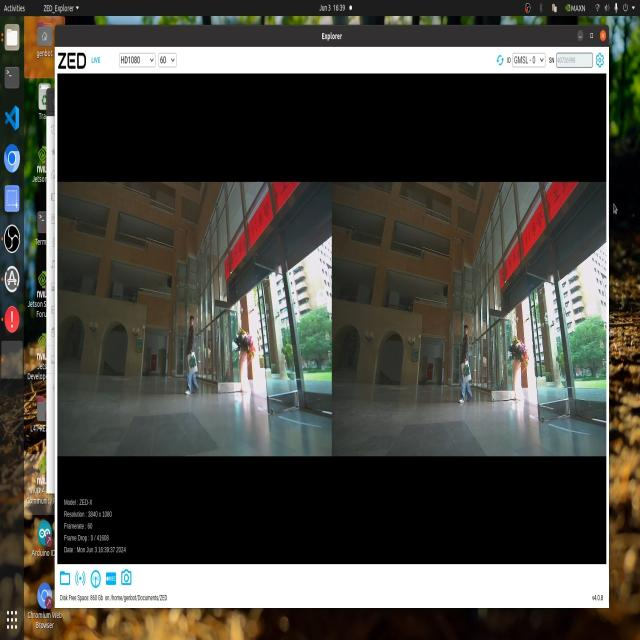green: (187, 356, 199, 378), (463, 364, 472, 376)
